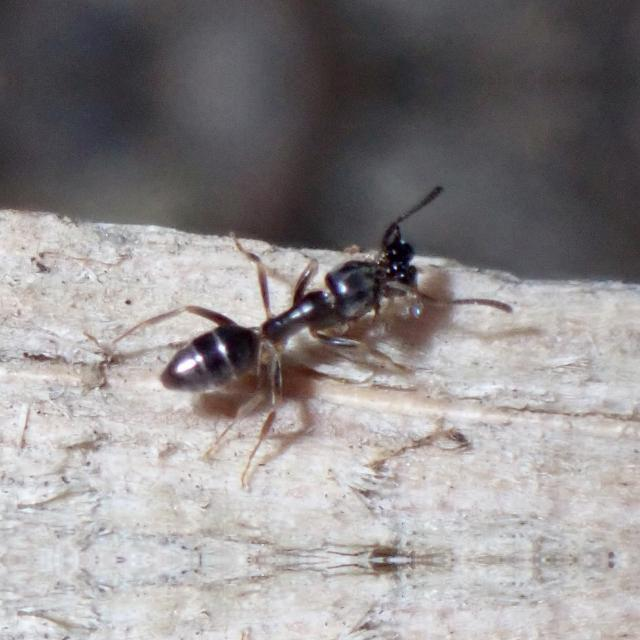Tapinoma: (110, 210, 480, 436)
